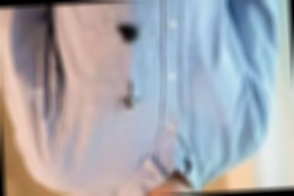ink: (117, 24, 138, 43)
